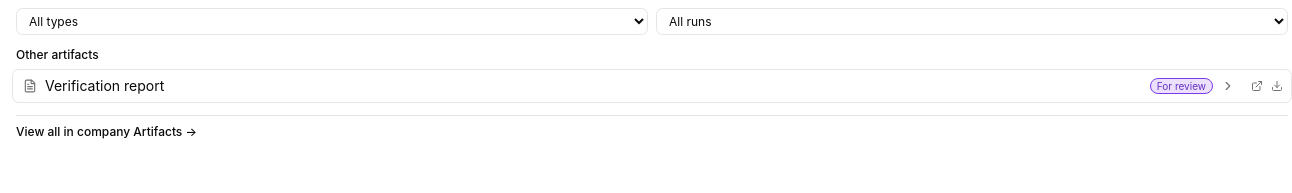
Scenario: markdown work product review row › materializes the document on first expand
What coordinates should you click on to do the following:
click the button "Verification report For review"
I would click on:
 (105, 86)
Its box is [13,70,1245,102].
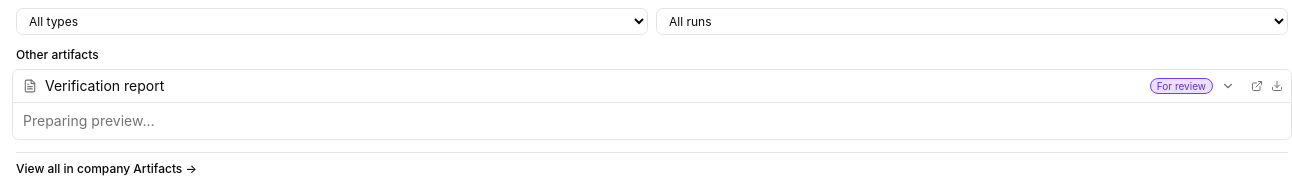
Expected: the text "Preparing preview…" is shown, [23,112,154,129]
